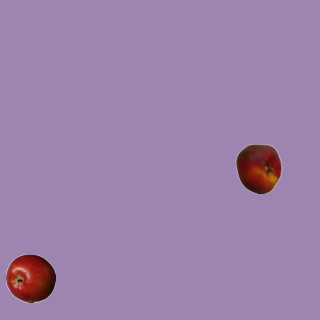Apple Braeburn: (5, 253, 55, 303)
Nectarine Flat: (233, 143, 283, 193)
